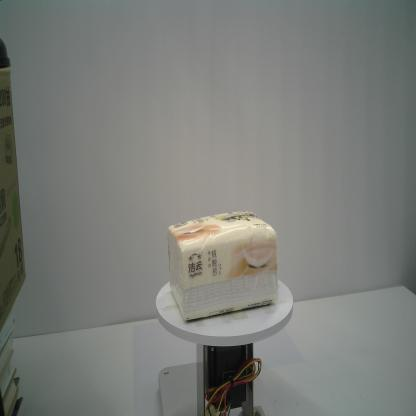Tissue: (164, 208, 280, 320)
